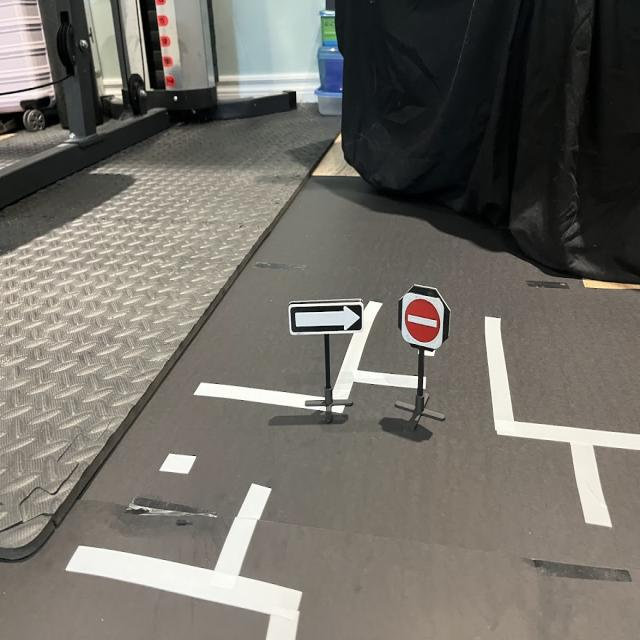sign_noentry: (402, 293, 445, 353)
sign_oneway_right: (287, 302, 366, 338)
